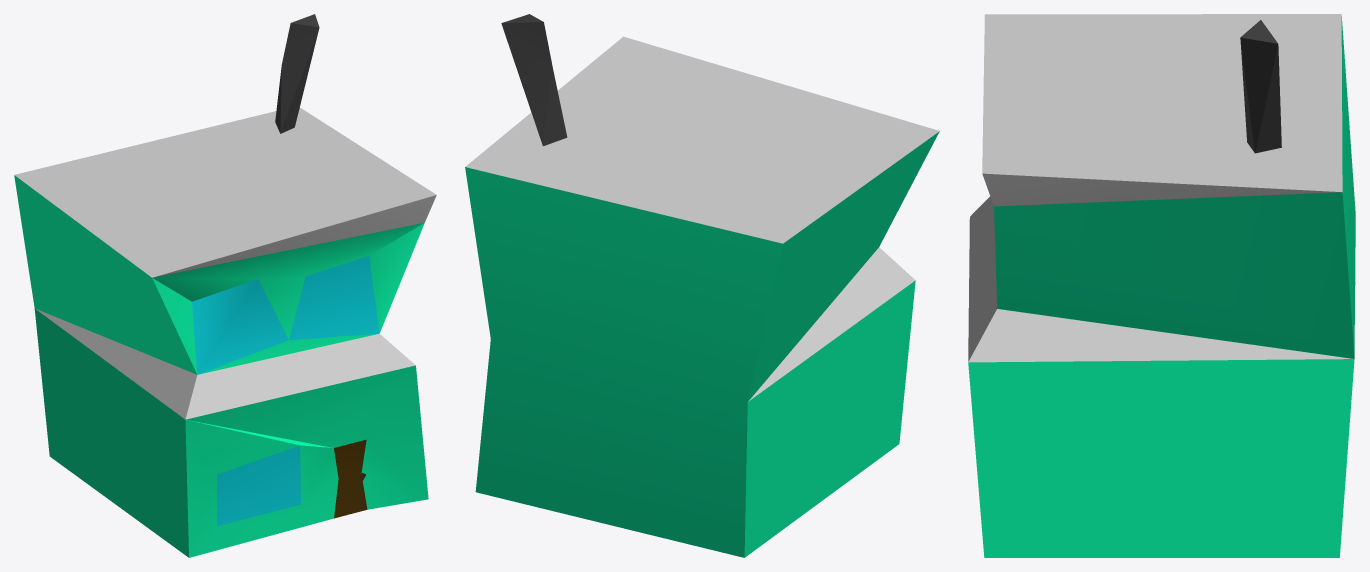
File: PredioPequeno-CianoLOD2.fbx
The picture shows the model from 3 angles, left to right: view 1: azimuth 30°, elevation 25°; view 2: azimuth 150°, elevation 25°; view 3: azimuth 270°, elevation 25°; orthographic projection. The views are drawn at different scales.
Parts seen in each view (by area): view 1: Predio2AndaresLOD2; view 2: Predio2AndaresLOD2; view 3: Predio2AndaresLOD2.
Boxes of the visible parts, x1,y1,x2,y2 form: Predio2AndaresLOD2: [14, 14, 436, 557]; Predio2AndaresLOD2: [465, 14, 939, 557]; Predio2AndaresLOD2: [968, 14, 1355, 557].
Bounding box in the file's own units: 718 × 975 × 660.
